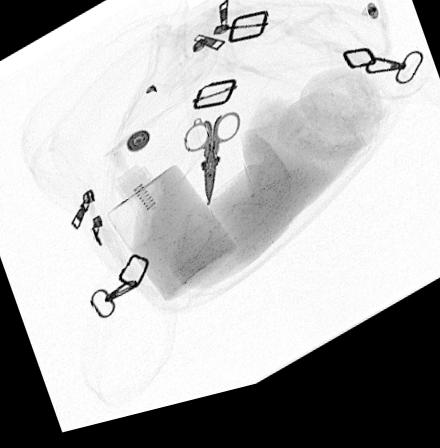Scissors: (180, 122, 242, 217)
